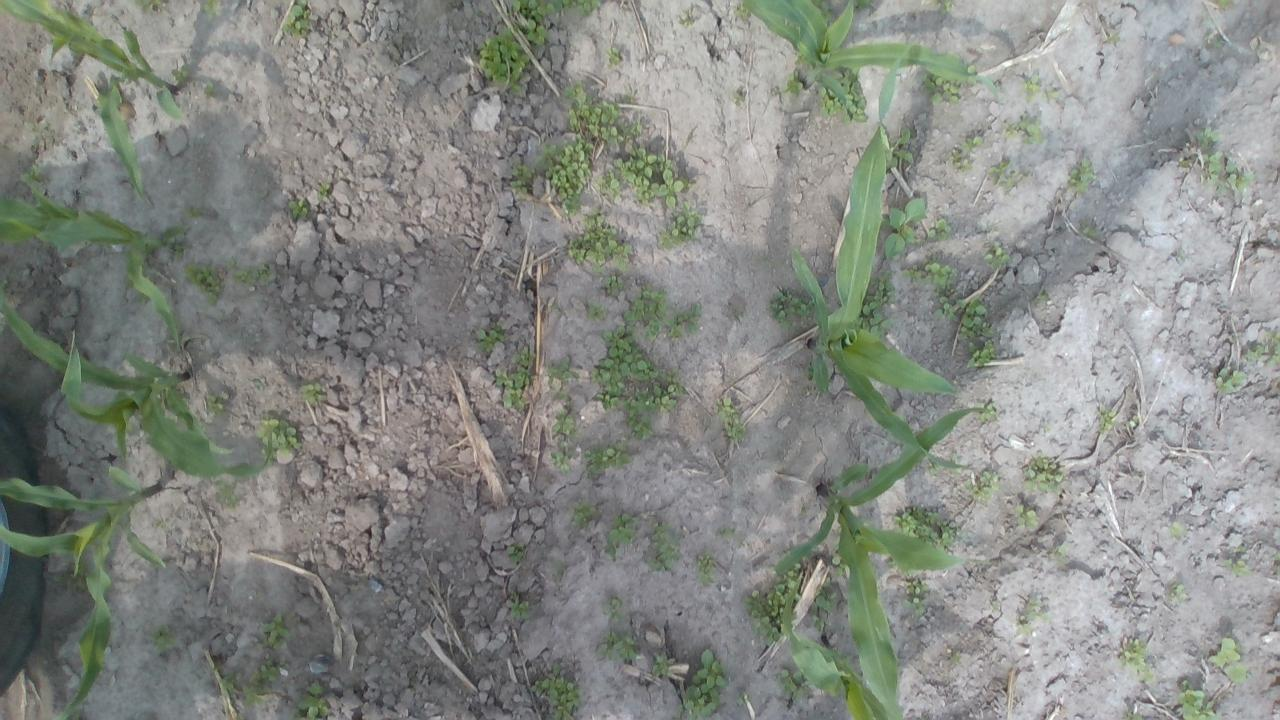Maize: (790, 42, 973, 472), (774, 406, 983, 720), (0, 282, 275, 484), (0, 466, 169, 720), (0, 0, 185, 199), (0, 172, 182, 344), (742, 0, 1001, 99), (782, 591, 892, 720)
Weeds: (590, 327, 686, 444), (742, 553, 802, 645), (562, 79, 643, 145), (614, 144, 688, 210), (536, 138, 596, 218), (670, 646, 730, 720), (1198, 125, 1256, 196), (567, 210, 632, 272), (478, 26, 530, 98), (892, 504, 958, 558), (817, 66, 870, 126), (878, 195, 926, 258), (530, 663, 582, 720), (858, 268, 898, 338), (922, 55, 976, 106), (767, 288, 818, 338), (622, 285, 668, 339), (496, 348, 532, 412), (255, 416, 302, 464), (1208, 636, 1251, 686), (658, 203, 703, 250), (508, 0, 602, 21), (1020, 456, 1068, 496), (808, 572, 839, 633), (185, 262, 225, 305), (584, 440, 634, 474), (646, 520, 680, 570), (544, 355, 580, 402), (603, 512, 638, 560), (1178, 678, 1218, 720), (956, 296, 992, 340), (1116, 637, 1151, 682), (964, 468, 1008, 503), (294, 680, 332, 720), (712, 396, 746, 440), (881, 126, 914, 170), (254, 610, 290, 650), (592, 628, 638, 659), (775, 666, 814, 702), (986, 160, 1030, 190), (226, 256, 272, 284), (1002, 114, 1044, 144), (666, 303, 700, 339), (901, 576, 930, 617), (921, 258, 960, 288), (964, 338, 1000, 370), (54, 562, 88, 594), (282, 0, 312, 35), (1018, 598, 1045, 634), (477, 321, 508, 352), (1066, 158, 1096, 190), (932, 284, 956, 322), (549, 439, 575, 473), (1216, 366, 1246, 395), (212, 478, 239, 510), (508, 164, 536, 194), (548, 407, 576, 436), (596, 167, 622, 198), (1012, 502, 1040, 530), (150, 624, 178, 652), (522, 18, 549, 47), (250, 659, 282, 683), (571, 500, 598, 528), (242, 681, 270, 708), (984, 241, 1010, 270), (695, 554, 716, 585), (830, 544, 850, 576), (205, 393, 229, 419), (602, 597, 626, 622), (782, 71, 806, 96), (650, 654, 676, 677), (1096, 402, 1114, 435), (973, 398, 997, 422), (928, 218, 952, 242), (1264, 332, 1280, 368), (1020, 75, 1042, 101), (949, 150, 972, 174), (298, 380, 324, 401), (1223, 556, 1249, 576), (960, 134, 985, 153), (816, 0, 834, 26), (25, 120, 44, 144), (507, 598, 528, 619), (604, 274, 624, 296), (604, 45, 624, 66), (219, 669, 234, 697), (130, 0, 162, 13), (584, 302, 607, 320), (22, 167, 46, 184), (200, 0, 224, 16), (288, 199, 308, 218), (506, 541, 524, 562), (1244, 344, 1264, 362), (732, 0, 752, 18), (676, 8, 694, 28), (900, 265, 922, 281), (180, 206, 202, 221), (173, 64, 191, 82), (1170, 582, 1186, 602), (1079, 221, 1097, 238), (172, 243, 190, 260), (792, 47, 809, 65), (1168, 520, 1186, 537), (1052, 542, 1067, 562), (316, 182, 334, 198), (729, 90, 746, 106), (1034, 287, 1050, 303), (1104, 29, 1120, 45), (718, 526, 738, 538), (852, 0, 875, 10), (1042, 86, 1058, 100), (736, 692, 752, 705), (1210, 0, 1232, 9), (1126, 710, 1144, 720), (938, 0, 952, 12), (990, 600, 1001, 614), (950, 652, 962, 664), (1233, 544, 1246, 554), (206, 81, 214, 94), (1214, 39, 1224, 49), (930, 463, 941, 472), (1177, 156, 1186, 166)
